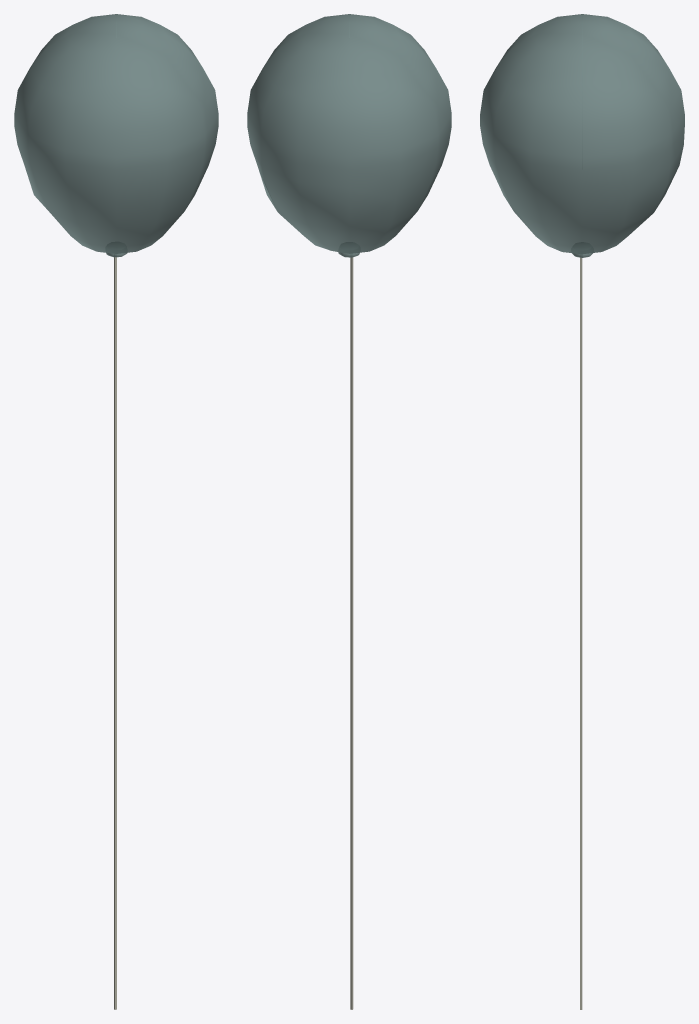
Rendered from Balloon_Blue.fbx.
3 views of the same model, side by side, from view 1: azimuth 30°, elevation 25°; view 2: azimuth 150°, elevation 25°; view 3: azimuth 270°, elevation 25° (orthographic).
Parts seen in each view (by area): view 1: Balloon_Blue; view 2: Balloon_Blue; view 3: Balloon_Blue.
Boxes of the visible parts, <box> form: Balloon_Blue: <box>14,14,218,1009</box>; Balloon_Blue: <box>247,14,451,1009</box>; Balloon_Blue: <box>480,14,684,1009</box>.
Size of the model in its own units: 49.42 by 263 by 49.42.
